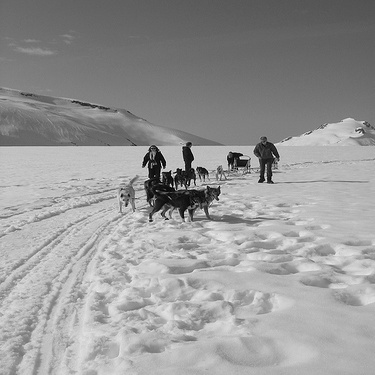dog: (137, 185, 200, 232), (166, 182, 211, 239), (107, 162, 142, 217), (176, 185, 221, 224), (143, 171, 177, 209), (210, 160, 239, 197), (133, 174, 162, 210), (183, 164, 214, 194), (164, 168, 188, 200), (176, 165, 197, 194)
